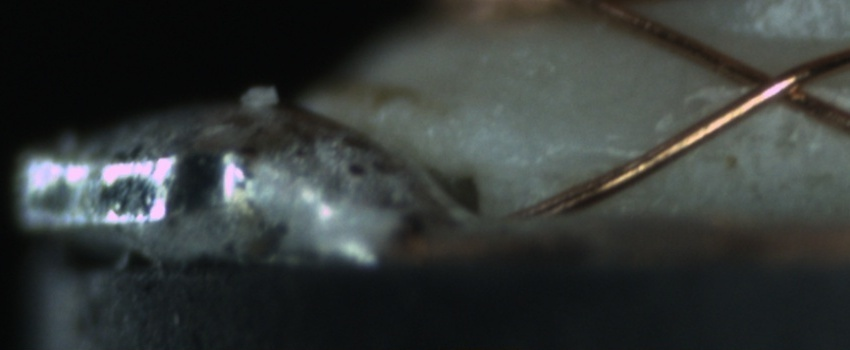CL: (721, 53, 826, 117)
DL: (508, 126, 656, 184)
